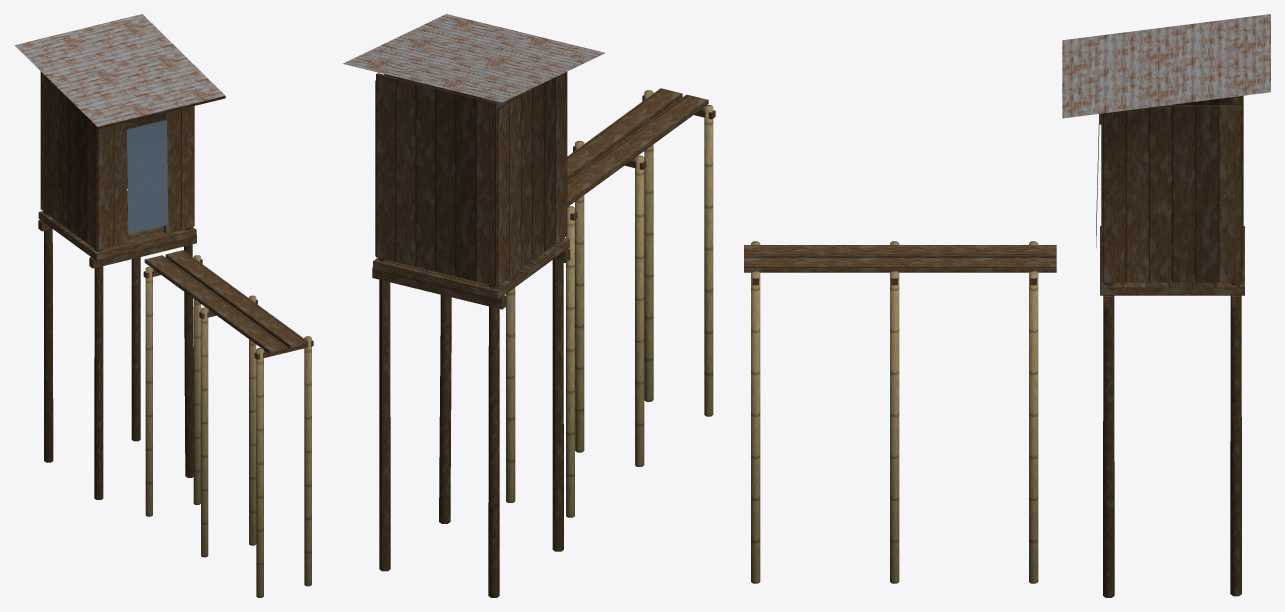
File: stilt_toilet.glb
The picture shows the model from 3 angles, left to right: view 1: azimuth 30°, elevation 25°; view 2: azimuth 150°, elevation 25°; view 3: azimuth 270°, elevation 25°; orthographic projection. The views are drawn at different scales.
Parts seen in each view (by area): view 1: stilt_toilet_mesh; view 2: stilt_toilet_mesh; view 3: stilt_toilet_mesh.
Part boxes in pixels (bbox=[...]): stilt_toilet_mesh: bbox=[14, 14, 313, 597]; stilt_toilet_mesh: bbox=[343, 14, 715, 597]; stilt_toilet_mesh: bbox=[744, 14, 1270, 597].
Size of the model in its own units: 1.6 by 4.9 by 4.55.
5 materials, 5 textured.
